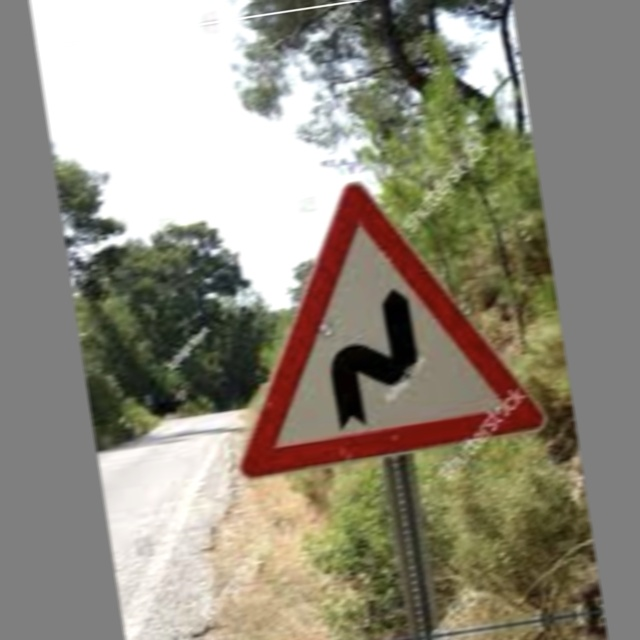Right_Reverse_Bend: (233, 181, 534, 467)
